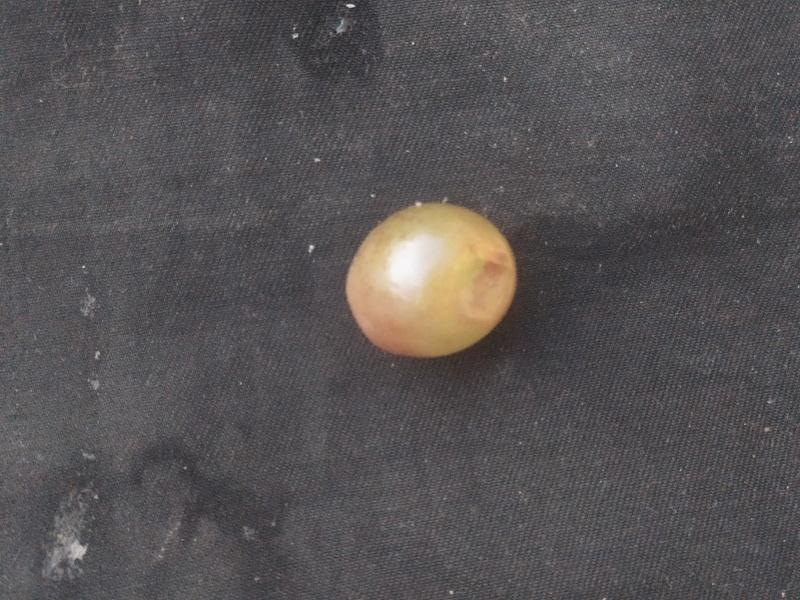Grape Overripe: (343, 201, 518, 358)
